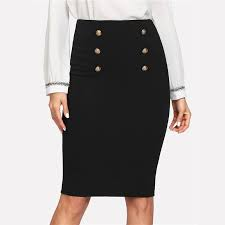S_skirt: (46, 17, 177, 196)
